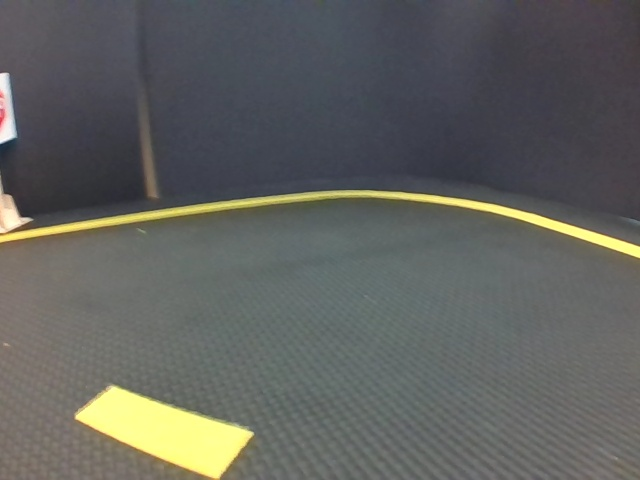stop: (1, 74, 14, 140)
